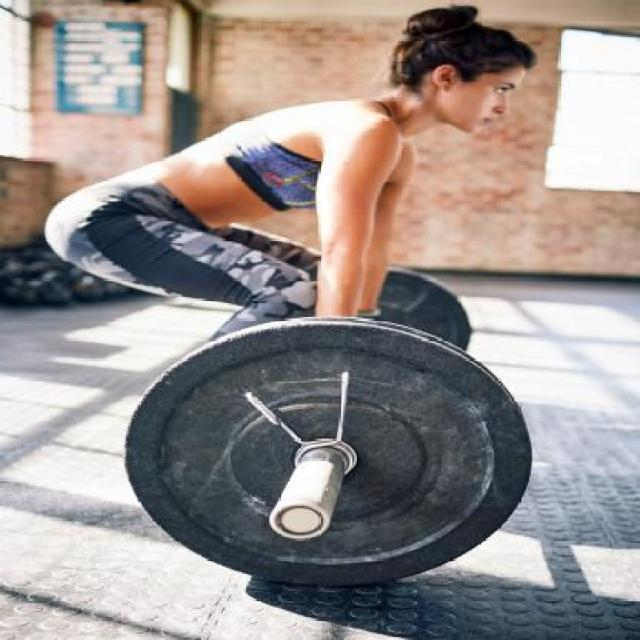Barbell: (264, 496, 336, 542)
